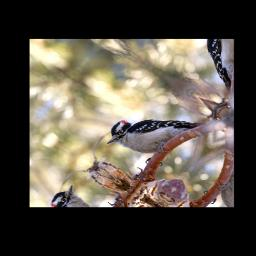Woodpecker: (102, 88, 205, 177)
